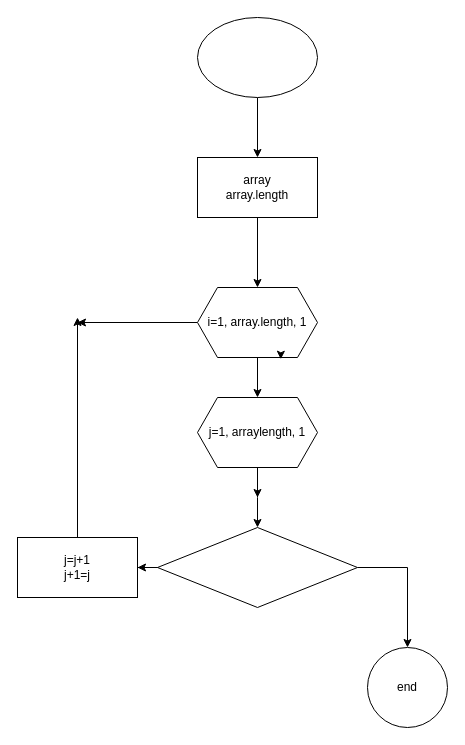
Some shapes in this 465 by 745 pixel diagram are drawn without their labels. The shapes that lost their labels are listed below. From the top down, each one's centre as x and y in pixels, then its label:
the point at 257,57: start
the point at 257,567: true j>j+1 false
